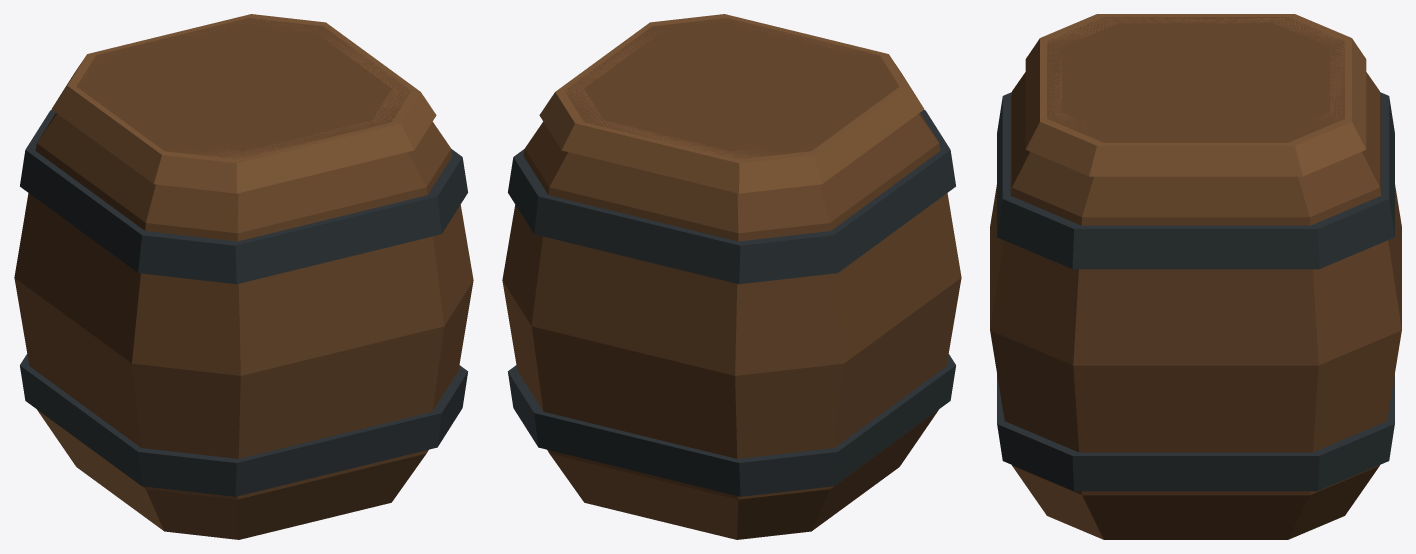
The model's file is barrel.glb.
The picture shows the model from 3 angles, left to right: view 1: azimuth 30°, elevation 25°; view 2: azimuth 150°, elevation 25°; view 3: azimuth 270°, elevation 25°; orthographic projection. The views are drawn at different scales.
Visible parts, largest first — view 1: barrel; view 2: barrel; view 3: barrel.
Boxes of the visible parts, box(x1,y1,x2,y2) form: barrel: box(14, 14, 473, 539); barrel: box(502, 14, 961, 539); barrel: box(990, 14, 1401, 539).
Bounding box in the file's own units: 0.94 × 1 × 0.94.
